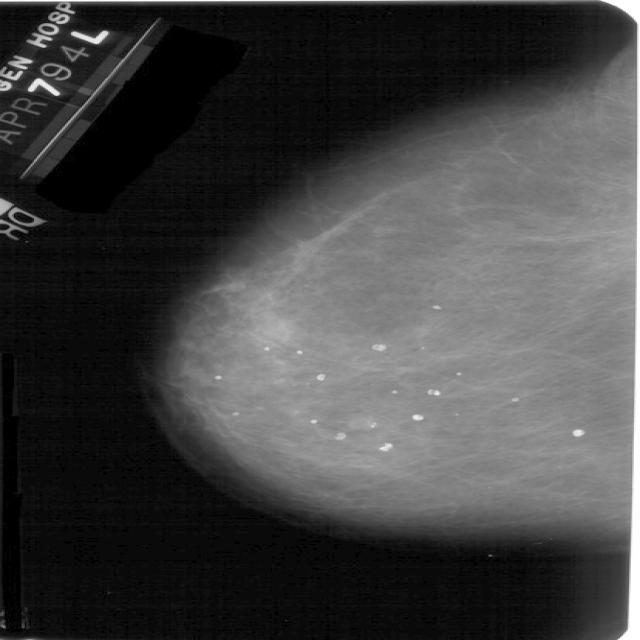tumour: (344, 415, 376, 430)
